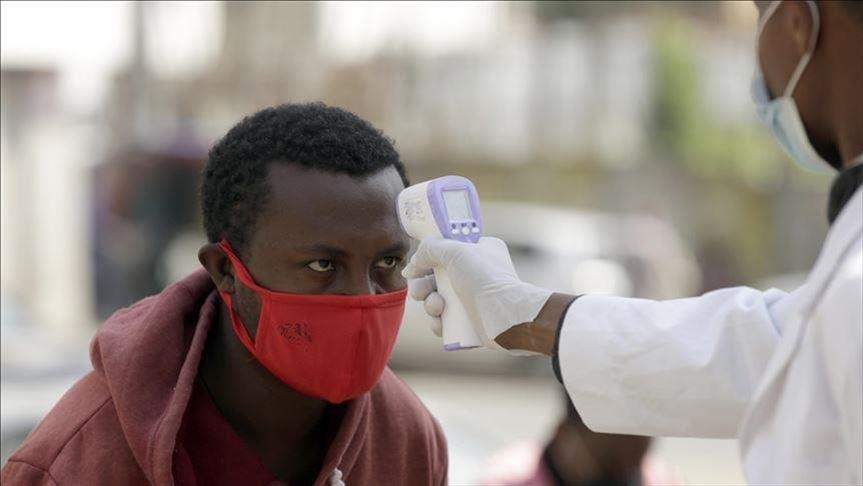with_mask: (219, 182, 399, 396)
